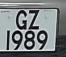1: (4, 29, 13, 52)
8: (23, 30, 36, 51)
9: (11, 30, 25, 52), (35, 29, 49, 51)
G: (14, 11, 29, 32)
Z: (25, 10, 41, 31)
